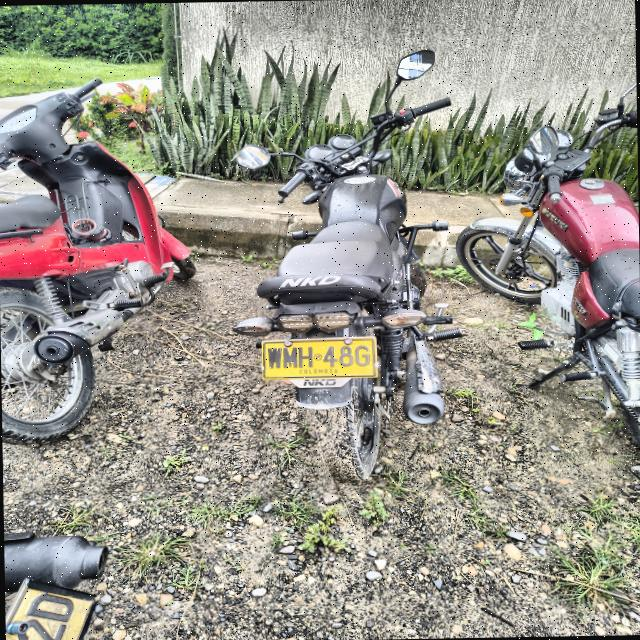4: (322, 345, 339, 367)
8: (338, 345, 354, 367)
G: (354, 344, 372, 366)
H: (298, 346, 314, 368)
M: (282, 346, 298, 369)
W: (266, 347, 282, 369)
